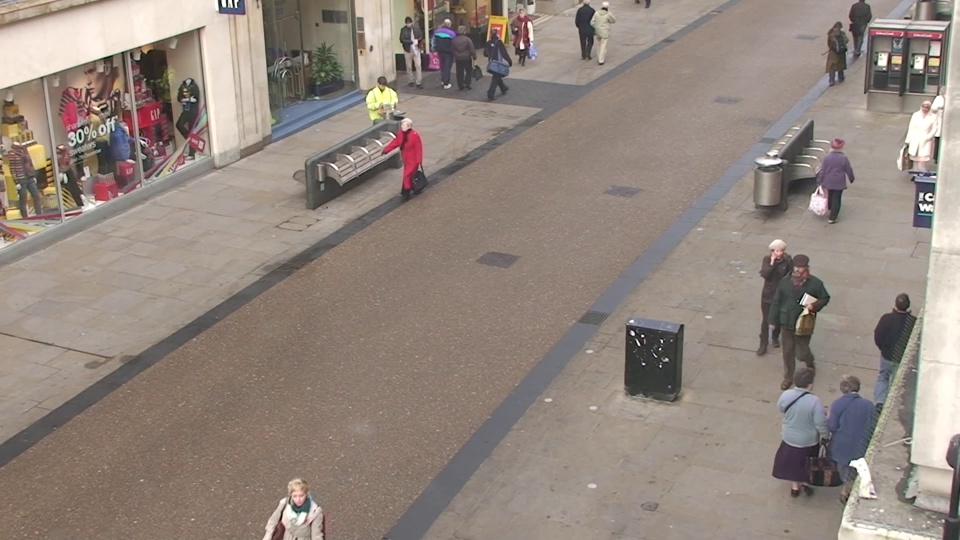pedestrian: (815, 362, 876, 526), (770, 358, 828, 519), (868, 285, 926, 428), (773, 250, 821, 382), (752, 234, 798, 362), (272, 466, 339, 540), (899, 96, 944, 191), (814, 133, 854, 234), (391, 113, 425, 208), (368, 74, 399, 157), (819, 18, 850, 90), (476, 32, 502, 105), (449, 23, 474, 93), (435, 15, 459, 83), (398, 15, 422, 82), (511, 6, 535, 71)
